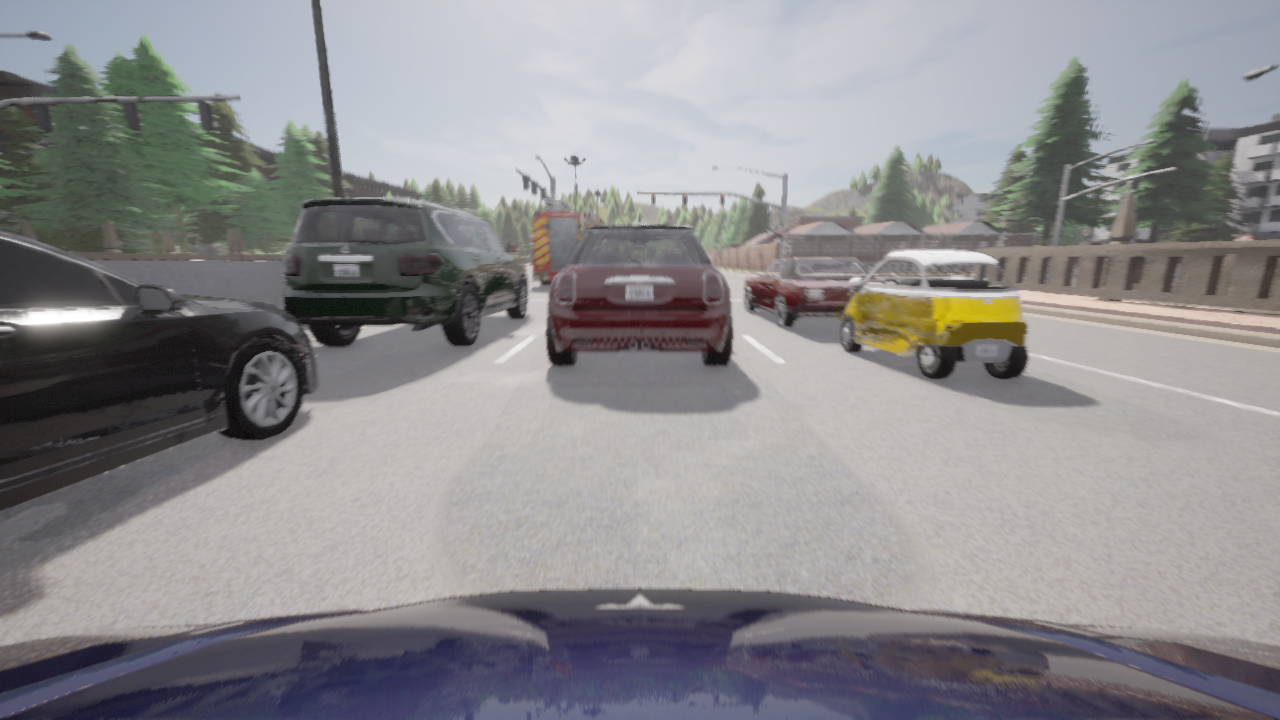cyclist: (0, 588, 1279, 719), (282, 197, 528, 346), (546, 213, 732, 365), (839, 249, 1027, 379), (743, 258, 869, 326), (531, 200, 604, 285)
